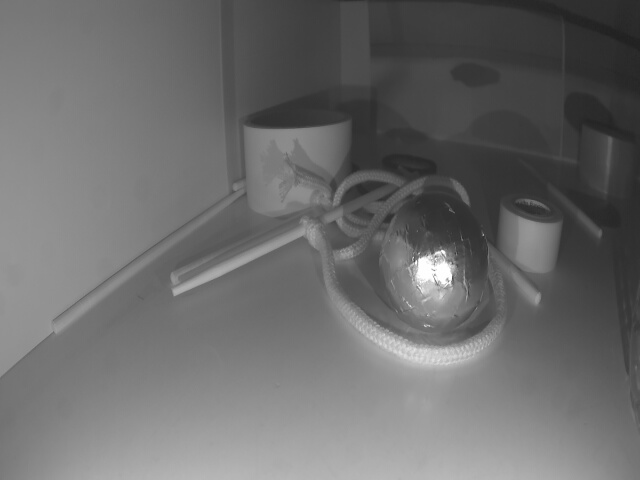Live: (380, 189, 489, 334)
